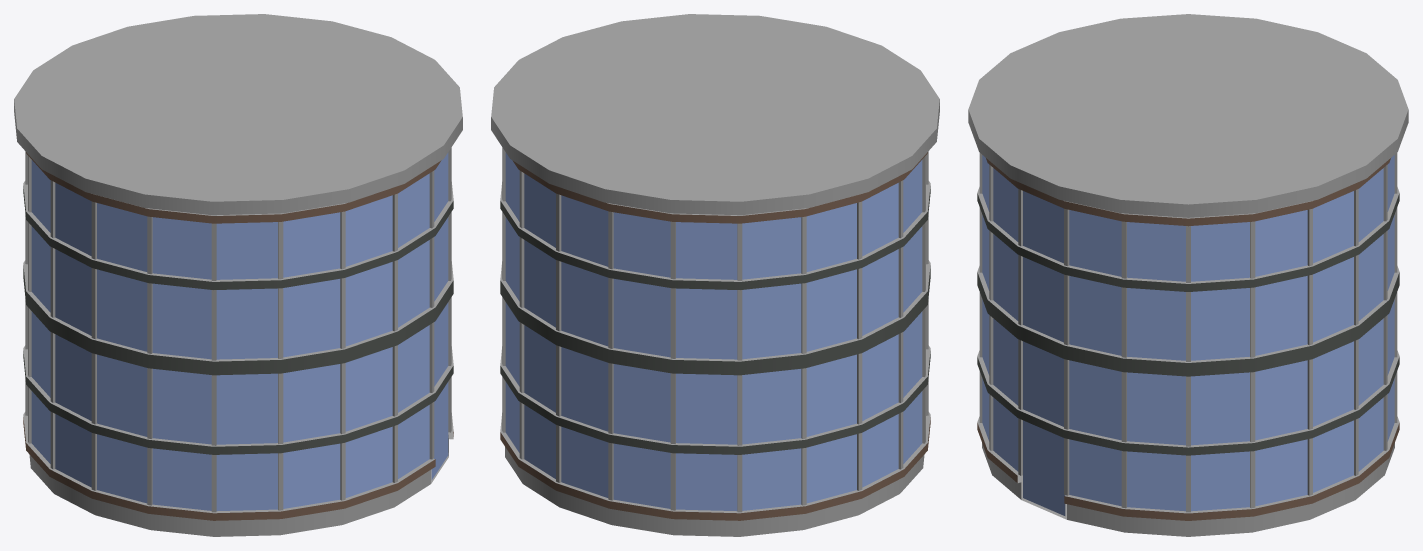
File: Tower3.fbx
3 views of the same model, side by side, from view 1: azimuth 30°, elevation 25°; view 2: azimuth 150°, elevation 25°; view 3: azimuth 270°, elevation 25° (orthographic).
Visible parts, largest first — view 1: Tower3; view 2: Tower3; view 3: Tower3.
Boxes of the visible parts, x1=… form: Tower3: x1=14, y1=14, x2=462, y2=536; Tower3: x1=491, y1=14, x2=939, y2=536; Tower3: x1=968, y1=14, x2=1408, y2=536.
Size of the model in its own units: 363 by 300 by 354.
